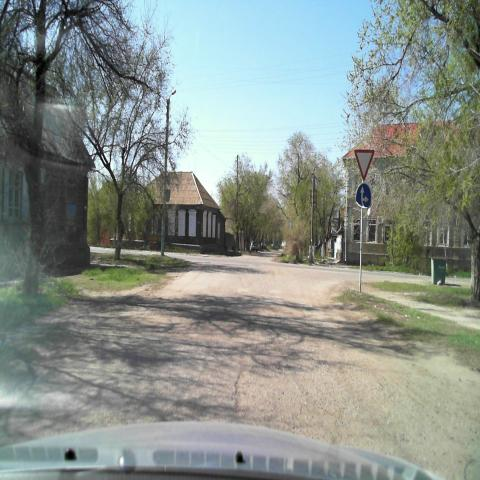2_4: (354, 148, 376, 182)
